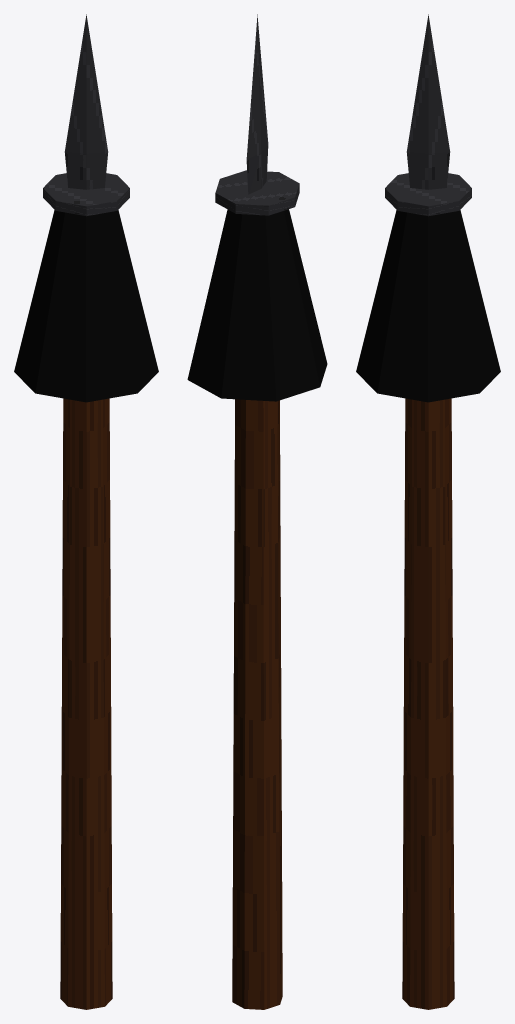
Rendered from sulde.glb.
3 views of the same model, side by side, from view 1: azimuth 90°, elevation 25°; view 2: azimuth 150°, elevation 25°; view 3: azimuth 270°, elevation 25° (orthographic).
Visible parts, largest first — view 1: poste, crin, punta, disco; view 2: poste, crin, disco, punta; view 3: poste, crin, punta, disco.
Part boxes in pixels (x1,y1,x2,y2): poste: [60, 398, 112, 1009]; crin: [14, 210, 158, 402]; punta: [64, 14, 108, 189]; disco: [43, 173, 129, 216]; poste: [232, 399, 282, 1009]; crin: [187, 209, 327, 401]; disco: [215, 170, 299, 215]; punta: [246, 14, 268, 194]; poste: [402, 398, 454, 1009]; crin: [356, 210, 500, 402]; punta: [406, 14, 450, 189]; disco: [385, 173, 471, 216].
Bounding box in the file's own units: 0.4 × 3 × 0.4.
Materials: 1 (1 with a texture image).
